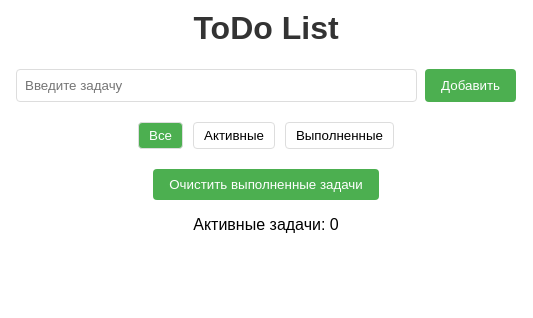
Test: ToDo App › Удаление задачи
Type "Удаляемая задача" into the field with placeholder "Введите задачу".
click(217, 85); type("Удаляемая задача")  # box top-left (16, 69), bottom-right (417, 102)
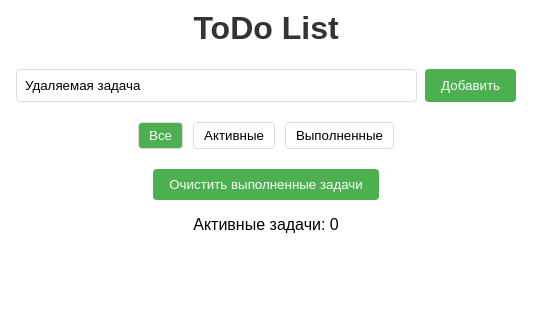
Click the button "Добавить".
click(471, 85)  # box top-left (425, 69), bottom-right (516, 102)
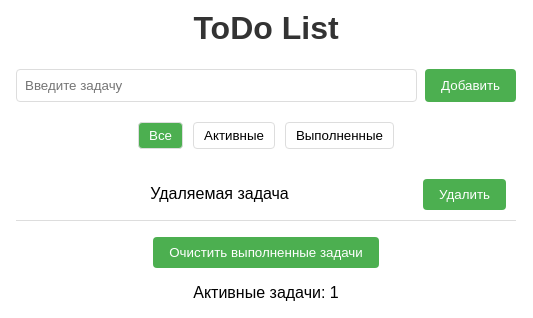
Click the button "Удалить".
click(465, 194)  # box top-left (423, 179), bottom-right (506, 210)
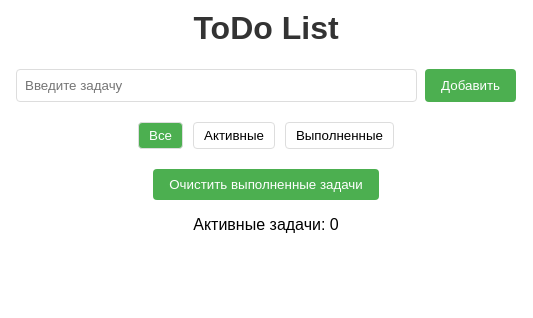
Check: the text "Удаляемая задача" is gone
